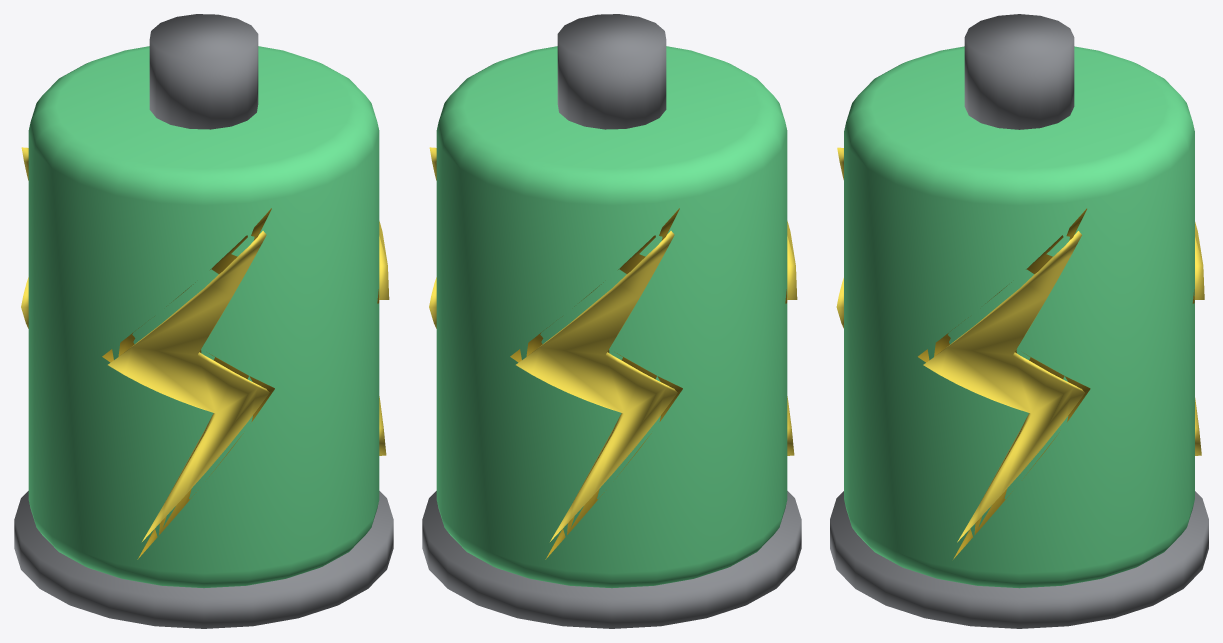
The model's file is energy_tank.glb.
3 renders of one model, left to right at view 1: azimuth 30°, elevation 25°; view 2: azimuth 150°, elevation 25°; view 3: azimuth 270°, elevation 25°, orthographic.
Parts seen in each view (by area): view 1: EnergyTank_Body, EnergyTank_Base, EnergyTank_Bolt_2, EnergyTank_Valve, EnergyTank_BoltOutline_2, EnergyTank_Bolt_0; view 2: EnergyTank_Body, EnergyTank_Base, EnergyTank_Bolt_1, EnergyTank_Valve, EnergyTank_BoltOutline_1, EnergyTank_Bolt_2; view 3: EnergyTank_Body, EnergyTank_Base, EnergyTank_Bolt_0, EnergyTank_Valve, EnergyTank_BoltOutline_0, EnergyTank_Bolt_1.
Boxes of the visible parts, <box> form: EnergyTank_Body: <box>28,46,379,588</box>; EnergyTank_Base: <box>14,491,393,628</box>; EnergyTank_Bolt_2: <box>108,231,269,541</box>; EnergyTank_Valve: <box>149,14,258,129</box>; EnergyTank_BoltOutline_2: <box>102,208,274,559</box>; EnergyTank_Bolt_0: <box>379,221,389,455</box>; EnergyTank_Body: <box>436,46,787,588</box>; EnergyTank_Base: <box>422,491,801,628</box>; EnergyTank_Bolt_1: <box>516,231,677,541</box>; EnergyTank_Valve: <box>557,14,666,129</box>; EnergyTank_BoltOutline_1: <box>510,208,682,559</box>; EnergyTank_Bolt_2: <box>787,221,797,455</box>; EnergyTank_Body: <box>844,46,1194,588</box>; EnergyTank_Base: <box>830,491,1208,628</box>; EnergyTank_Bolt_0: <box>923,231,1084,542</box>; EnergyTank_Valve: <box>964,14,1074,129</box>; EnergyTank_BoltOutline_0: <box>918,208,1090,559</box>; EnergyTank_Bolt_1: <box>1194,222,1204,455</box>.
Bounding box in the file's own units: 0.3456 × 0.515 × 0.3456.
